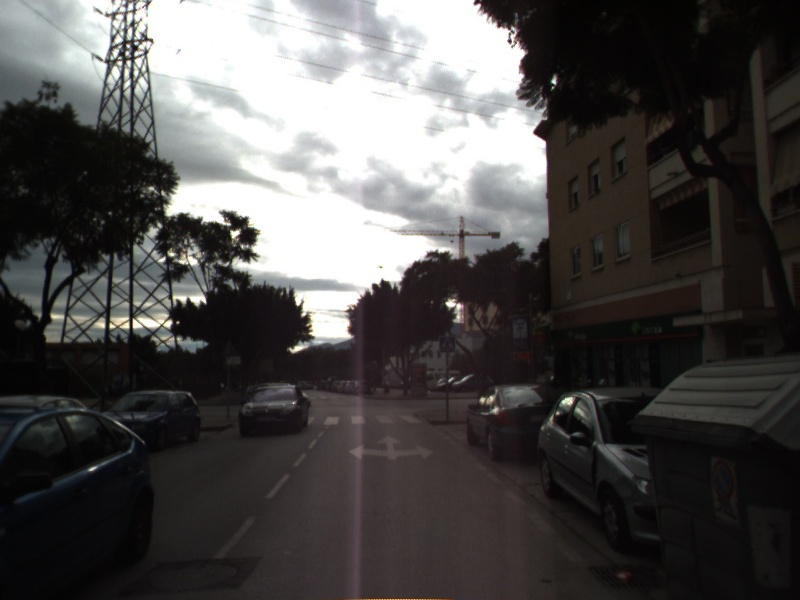STRAIGHT_LEFT_RIGHT: (347, 433, 436, 462)
